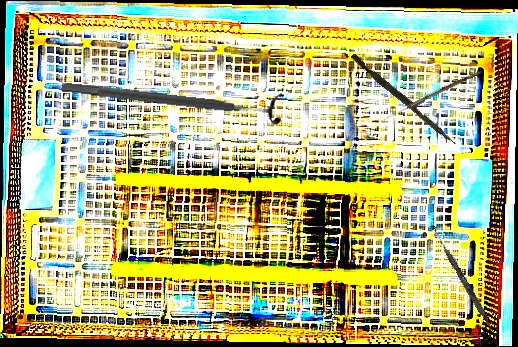Fixation Ring: (59, 69, 285, 128)
Pusher: (348, 53, 460, 146)
Spatula Surgical: (429, 225, 501, 340)
Surgical Spoon: (381, 68, 483, 123)
